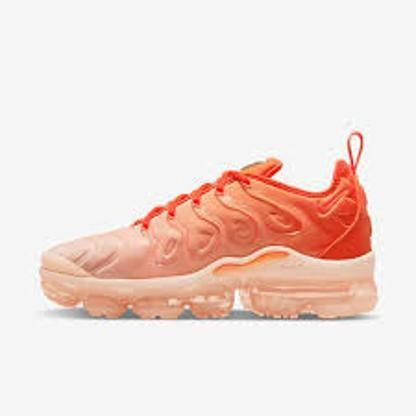not trash: (41, 132, 374, 319)
